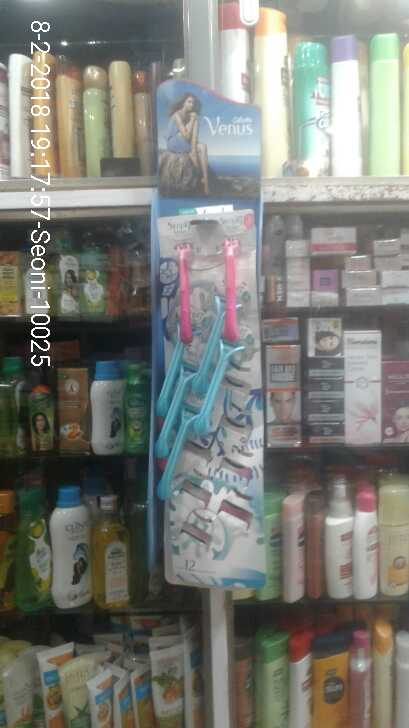reject: (318, 147, 369, 215)
